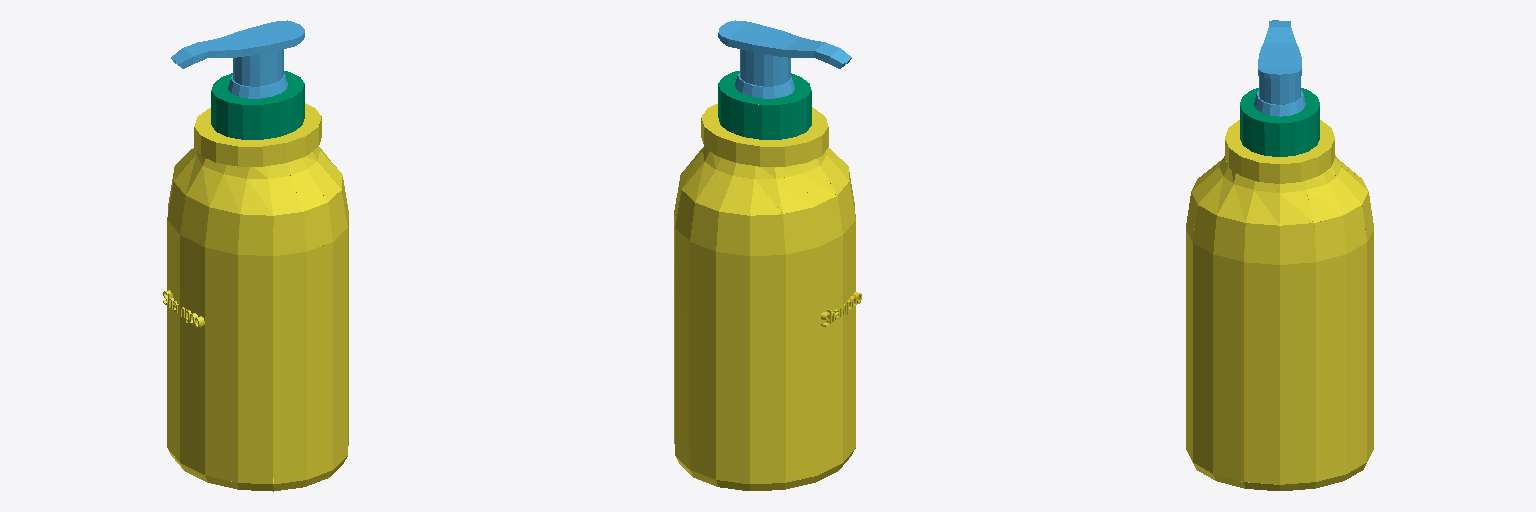
The robot description file, URDF, robot "partnet_d109e3b9-682b-4e13-a11d-dc57eabb03e2":
<?xml version="1.0" ?>
<robot name="partnet_d109e3b9-682b-4e13-a11d-dc57eabb03e2">
	<link name="base"/>
	<link name="link_0">
		<visual name="pressing_lid-1">
			<origin xyz="0.004991 0 0.0023035"/>
			<geometry>
				<mesh filename="textured_objs/original_9.obj"/>
			</geometry>
		</visual>
		<visual name="pressing_lid-1">
			<origin xyz="0.004991 0 0.0023035"/>
			<geometry>
				<mesh filename="textured_objs/original_7.obj"/>
			</geometry>
		</visual>
		<visual name="pressing_lid-1">
			<origin xyz="0.004991 0 0.0023035"/>
			<geometry>
				<mesh filename="textured_objs/original_11.obj"/>
			</geometry>
		</visual>
		<visual name="pressing_lid-1">
			<origin xyz="0.004991 0 0.0023035"/>
			<geometry>
				<mesh filename="textured_objs/original_10.obj"/>
			</geometry>
		</visual>
		<collision>
			<origin xyz="0.004991 0 0.0023035"/>
			<geometry>
				<mesh filename="textured_objs/original_9.obj"/>
			</geometry>
		</collision>
		<collision>
			<origin xyz="0.004991 0 0.0023035"/>
			<geometry>
				<mesh filename="textured_objs/original_7.obj"/>
			</geometry>
		</collision>
		<collision>
			<origin xyz="0.004991 0 0.0023035"/>
			<geometry>
				<mesh filename="textured_objs/original_11.obj"/>
			</geometry>
		</collision>
		<collision>
			<origin xyz="0.004991 0 0.0023035"/>
			<geometry>
				<mesh filename="textured_objs/original_10.obj"/>
			</geometry>
		</collision>
	</link>
	<joint name="joint_0" type="continuous">
		<origin xyz="0.0 0 0.0"/>
		<axis xyz="0 1 0"/>
		<child link="link_0"/>
		<parent link="link_0_helper"/>
	</joint>
	<link name="link_1">
		<visual name="head-3">
			<origin xyz="0.004991 0 0.0023035"/>
			<geometry>
				<mesh filename="textured_objs/original_14.obj"/>
			</geometry>
		</visual>
		<collision>
			<origin xyz="0.004991 0 0.0023035"/>
			<geometry>
				<mesh filename="textured_objs/original_14.obj"/>
			</geometry>
		</collision>
	</link>
	<joint name="joint_1" type="continuous">
		<origin xyz="0.0 0 0.0"/>
		<axis xyz="0 1 0"/>
		<child link="link_1"/>
		<parent link="link_1_helper"/>
	</joint>
	<link name="link_2">
		<visual name="base_body-4">
			<origin xyz="0 0 0"/>
			<geometry>
				<mesh filename="textured_objs/original_4.obj"/>
			</geometry>
		</visual>
		<visual name="base_body-4">
			<origin xyz="0 0 0"/>
			<geometry>
				<mesh filename="textured_objs/original_3.obj"/>
			</geometry>
		</visual>
		<visual name="base_body-4">
			<origin xyz="0 0 0"/>
			<geometry>
				<mesh filename="textured_objs/original_2.obj"/>
			</geometry>
		</visual>
		<visual name="base_body-4">
			<origin xyz="0 0 0"/>
			<geometry>
				<mesh filename="textured_objs/original_16.obj"/>
			</geometry>
		</visual>
		<visual name="base_body-4">
			<origin xyz="0 0 0"/>
			<geometry>
				<mesh filename="textured_objs/original_8.obj"/>
			</geometry>
		</visual>
		<visual name="base_body-4">
			<origin xyz="0 0 0"/>
			<geometry>
				<mesh filename="textured_objs/original_13.obj"/>
			</geometry>
		</visual>
		<visual name="base_body-4">
			<origin xyz="0 0 0"/>
			<geometry>
				<mesh filename="textured_objs/original_5.obj"/>
			</geometry>
		</visual>
		<visual name="base_body-4">
			<origin xyz="0 0 0"/>
			<geometry>
				<mesh filename="textured_objs/original_6.obj"/>
			</geometry>
		</visual>
		<visual name="base_body-4">
			<origin xyz="0 0 0"/>
			<geometry>
				<mesh filename="textured_objs/original_15.obj"/>
			</geometry>
		</visual>
		<visual name="base_body-4">
			<origin xyz="0 0 0"/>
			<geometry>
				<mesh filename="textured_objs/original_18.obj"/>
			</geometry>
		</visual>
		<visual name="base_body-4">
			<origin xyz="0 0 0"/>
			<geometry>
				<mesh filename="textured_objs/original_17.obj"/>
			</geometry>
		</visual>
		<visual name="base_body-4">
			<origin xyz="0 0 0"/>
			<geometry>
				<mesh filename="textured_objs/original_12.obj"/>
			</geometry>
		</visual>
		<visual name="base_body-4">
			<origin xyz="0 0 0"/>
			<geometry>
				<mesh filename="textured_objs/original_1.obj"/>
			</geometry>
		</visual>
		<collision>
			<origin xyz="0 0 0"/>
			<geometry>
				<mesh filename="textured_objs/original_4.obj"/>
			</geometry>
		</collision>
		<collision>
			<origin xyz="0 0 0"/>
			<geometry>
				<mesh filename="textured_objs/original_3.obj"/>
			</geometry>
		</collision>
		<collision>
			<origin xyz="0 0 0"/>
			<geometry>
				<mesh filename="textured_objs/original_2.obj"/>
			</geometry>
		</collision>
		<collision>
			<origin xyz="0 0 0"/>
			<geometry>
				<mesh filename="textured_objs/original_16.obj"/>
			</geometry>
		</collision>
		<collision>
			<origin xyz="0 0 0"/>
			<geometry>
				<mesh filename="textured_objs/original_8.obj"/>
			</geometry>
		</collision>
		<collision>
			<origin xyz="0 0 0"/>
			<geometry>
				<mesh filename="textured_objs/original_13.obj"/>
			</geometry>
		</collision>
		<collision>
			<origin xyz="0 0 0"/>
			<geometry>
				<mesh filename="textured_objs/original_5.obj"/>
			</geometry>
		</collision>
		<collision>
			<origin xyz="0 0 0"/>
			<geometry>
				<mesh filename="textured_objs/original_6.obj"/>
			</geometry>
		</collision>
		<collision>
			<origin xyz="0 0 0"/>
			<geometry>
				<mesh filename="textured_objs/original_15.obj"/>
			</geometry>
		</collision>
		<collision>
			<origin xyz="0 0 0"/>
			<geometry>
				<mesh filename="textured_objs/original_18.obj"/>
			</geometry>
		</collision>
		<collision>
			<origin xyz="0 0 0"/>
			<geometry>
				<mesh filename="textured_objs/original_17.obj"/>
			</geometry>
		</collision>
		<collision>
			<origin xyz="0 0 0"/>
			<geometry>
				<mesh filename="textured_objs/original_12.obj"/>
			</geometry>
		</collision>
		<collision>
			<origin xyz="0 0 0"/>
			<geometry>
				<mesh filename="textured_objs/original_1.obj"/>
			</geometry>
		</collision>
	</link>
	<joint name="joint_2" type="fixed">
		<origin rpy="1.570796326794897 0 -1.570796326794897" xyz="0 0 0"/>
		<child link="link_2"/>
		<parent link="base"/>
	</joint>
	<link name="link_0_helper">
		<inertial>
			<origin xyz="0 0 0"/>
			<mass value="1e-6"/>
			<inertia ixx="1e-10" ixy="0" ixz="0" iyy="1e-10" iyz="0" izz="1e-10"/>
		</inertial>
	</link>
	<joint name="joint_3" type="prismatic">
		<origin xyz="0.0 0 0.0"/>
		<axis xyz="0 -1 0"/>
		<child link="link_0_helper"/>
		<parent link="link_1"/>
		<limit lower="0" upper="0.13"/>
	</joint>
	<link name="link_1_helper">
		<inertial>
			<origin xyz="0 0 0"/>
			<mass value="1e-6"/>
			<inertia ixx="1e-10" ixy="0" ixz="0" iyy="1e-10" iyz="0" izz="1e-10"/>
		</inertial>
	</link>
	<joint name="joint_4" type="prismatic">
		<origin xyz="-0.004991 0 -0.0023035"/>
		<axis xyz="0 1 0"/>
		<child link="link_1_helper"/>
		<parent link="link_2"/>
		<limit lower="0" upper="0.01"/>
	</joint>
</robot>

--- Facts derived from the render (not from the file) ---
Views: 3 orthographic renders of the robot side by side, from view 1: azimuth 30°, elevation 25°; view 2: azimuth 150°, elevation 25°; view 3: azimuth 270°, elevation 25°.
Model partnet_d109e3b9-682b-4e13-a11d-dc57eabb03e2 with 6 links and 5 joints (2 continuous, 2 prismatic, 1 fixed), rooted at base, posed all joints at 0.
Visible links, largest first — view 1: link_2, link_0, link_1; view 2: link_2, link_0, link_1; view 3: link_2, link_1, link_0.
Boxes of the visible links, x1=… form: link_2: x1=163, y1=103, x2=348, y2=491; link_0: x1=171, y1=20, x2=304, y2=98; link_1: x1=211, y1=71, x2=304, y2=139; link_2: x1=674, y1=104, x2=861, y2=490; link_0: x1=718, y1=20, x2=851, y2=98; link_1: x1=718, y1=71, x2=811, y2=139; link_2: x1=1186, y1=120, x2=1373, y2=490; link_1: x1=1240, y1=88, x2=1319, y2=156; link_0: x1=1254, y1=20, x2=1305, y2=116.
Bounding box of the posed robot: 0.6876 × 0.7249 × 1.73 m (x, y, z).
18 mesh visuals loaded from 18 distinct referenced files (18 OBJ).
